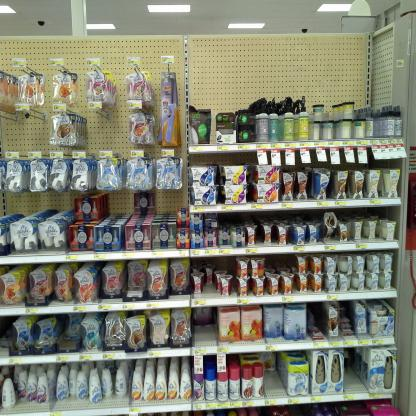Void: (3, 193, 71, 214), (88, 118, 128, 150), (5, 123, 45, 146), (193, 309, 216, 345), (346, 350, 364, 394), (266, 350, 283, 392), (111, 193, 136, 215), (190, 155, 255, 163), (158, 190, 179, 212), (266, 257, 296, 272), (307, 304, 323, 327), (216, 261, 235, 272), (340, 303, 351, 317), (207, 286, 218, 296)
